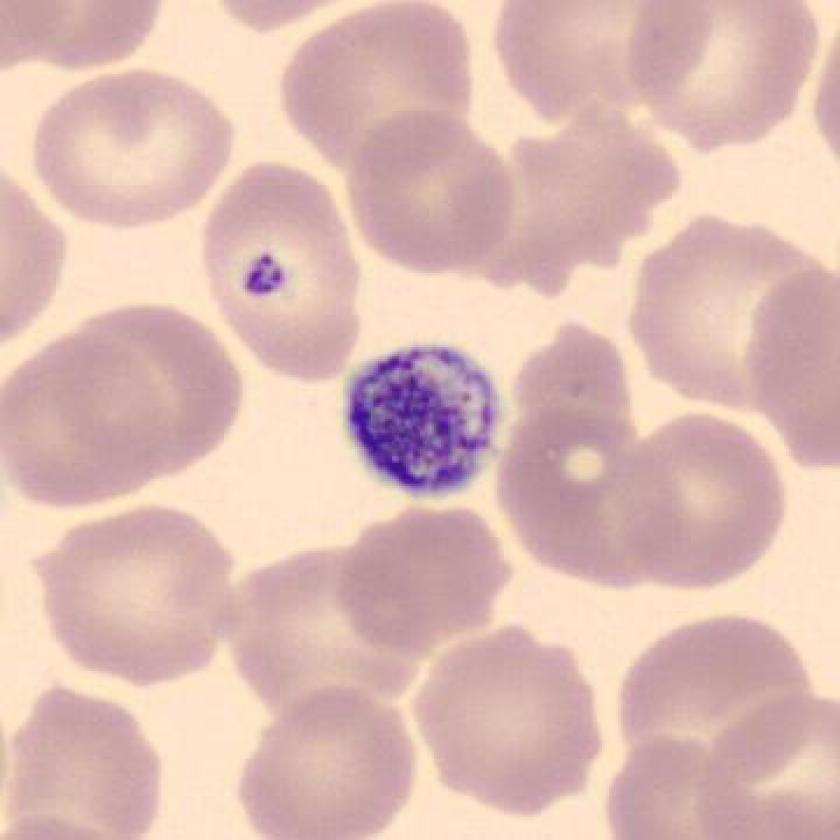platelets: (337, 337, 512, 506), (232, 244, 297, 306)
